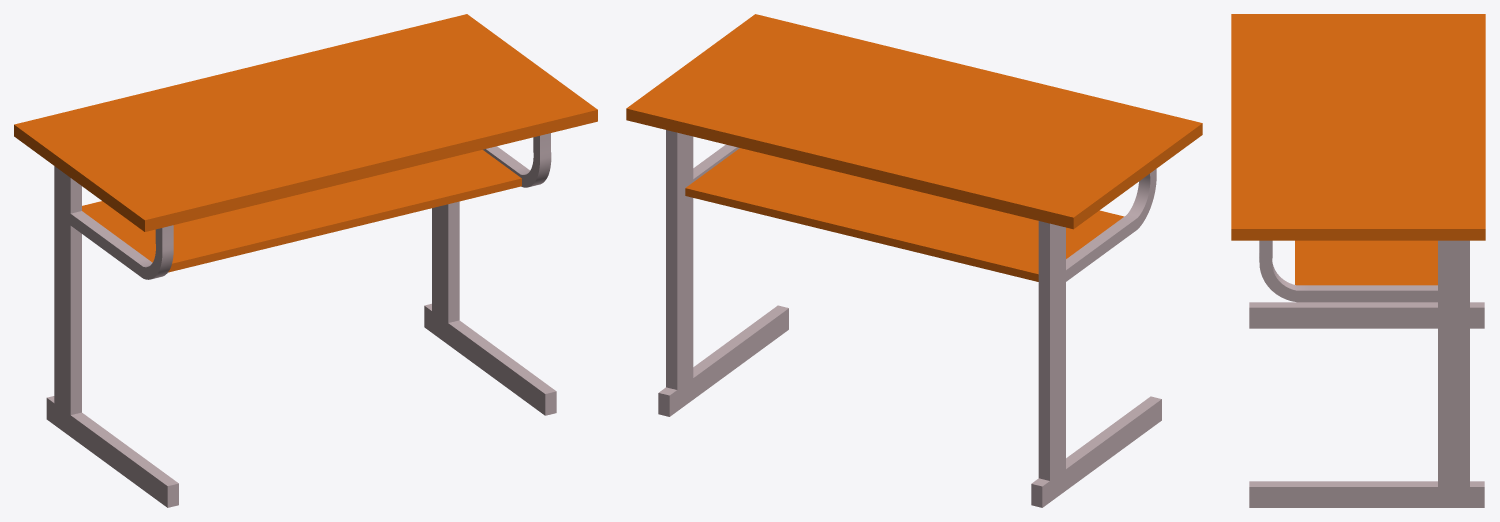
Rendered from JumpDuck.fbx.
The picture shows the model from 3 angles, left to right: view 1: azimuth 30°, elevation 25°; view 2: azimuth 150°, elevation 25°; view 3: azimuth 270°, elevation 25°; orthographic projection. The views are drawn at different scales.
Parts seen in each view (by area): view 1: Cube, Cube.010, Cube.002, Cube.004, Cube.005, Cube.001, Cube.008, Cube.007; view 2: Cube, Cube.010, Cube.002, Cube.001, Cube.004, Cube.005, Cube.008; view 3: Cube, Cube.001, Cube.010, Cube.004, Cube.005, Cube.007.
Boxes of the visible parts, bbox=[...] form: Cube: bbox=[14, 14, 597, 231]; Cube.010: bbox=[82, 150, 521, 272]; Cube.002: bbox=[54, 166, 81, 436]; Cube.004: bbox=[424, 303, 556, 415]; Cube.005: bbox=[46, 396, 178, 507]; Cube.001: bbox=[432, 201, 459, 338]; Cube.008: bbox=[70, 211, 173, 279]; Cube.007: bbox=[483, 133, 551, 187]; Cube: bbox=[626, 14, 1202, 229]; Cube.010: bbox=[685, 148, 1124, 281]; Cube.002: bbox=[1038, 221, 1065, 501]; Cube.001: bbox=[666, 130, 693, 410]; Cube.004: bbox=[658, 305, 788, 416]; Cube.005: bbox=[1031, 396, 1161, 507]; Cube.008: bbox=[1065, 169, 1156, 282]; Cube: bbox=[1231, 14, 1485, 240]; Cube.001: bbox=[1438, 240, 1469, 507]; Cube.010: bbox=[1295, 240, 1437, 285]; Cube.004: bbox=[1249, 481, 1484, 507]; Cube.005: bbox=[1249, 302, 1484, 328]; Cube.007: bbox=[1259, 240, 1439, 302].
Size of the model in its own units: 480 by 306 by 240.
